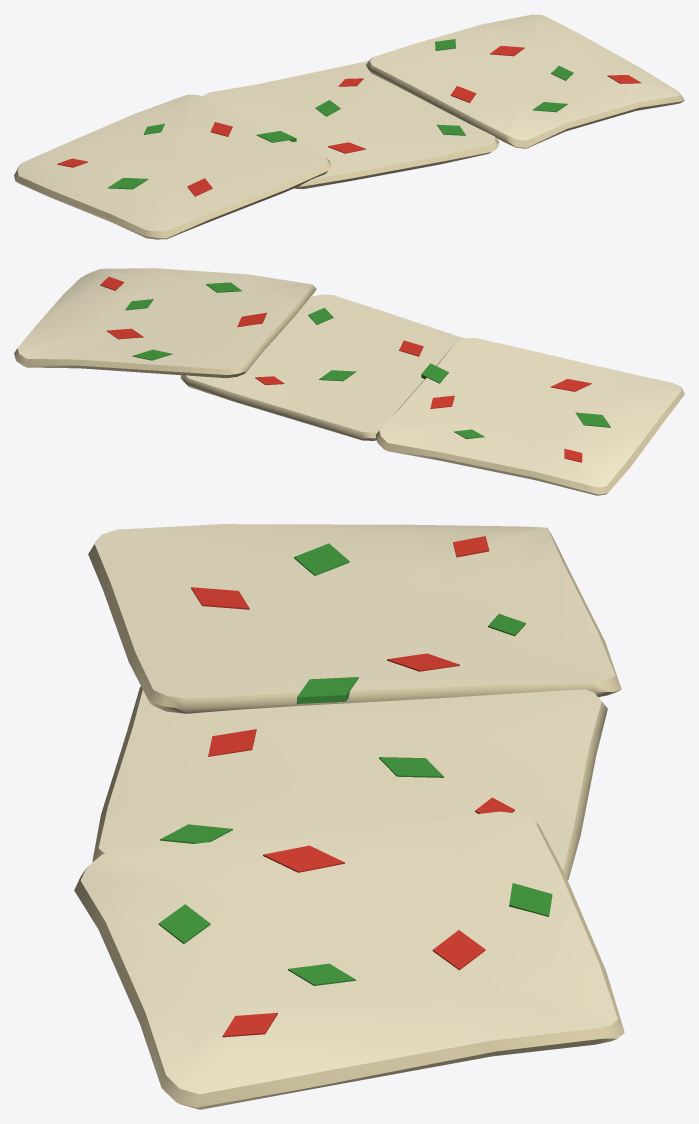
Rendered from Food_PepperJack.fbx.
The picture shows the model from 3 angles, top to bottom: view 1: azimuth 30°, elevation 25°; view 2: azimuth 150°, elevation 25°; view 3: azimuth 270°, elevation 25°; orthographic projection. The views are drawn at different scales.
Parts seen in each view (by area): view 1: Cheese, CheeseEdge, PepperGreen, PepperRed; view 2: Cheese, CheeseEdge, PepperGreen, PepperRed; view 3: Cheese, CheeseEdge, PepperGreen, PepperRed.
Part boxes in pixels (x1,y1,x2,y2): Cheese: (17,14,680,231); CheeseEdge: (14,58,684,239); PepperGreen: (108,39,573,189); PepperRed: (57,46,640,196); Cheese: (17,268,681,487); CheeseEdge: (14,285,684,495); PepperGreen: (125,282,610,438); PepperRed: (100,276,591,462); Cheese: (80,524,617,1094); CheeseEdge: (74,530,624,1109); PepperGreen: (158,543,552,985); PepperRed: (191,536,514,1037).
Size of the model in its own units: 227 by 13.36 by 92.25.
